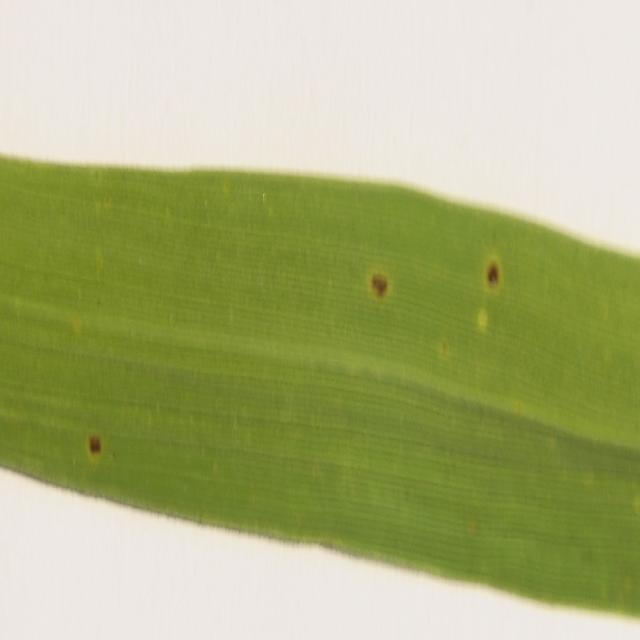Unhealthy: (485, 253, 502, 295), (370, 269, 389, 302), (86, 430, 104, 460)
